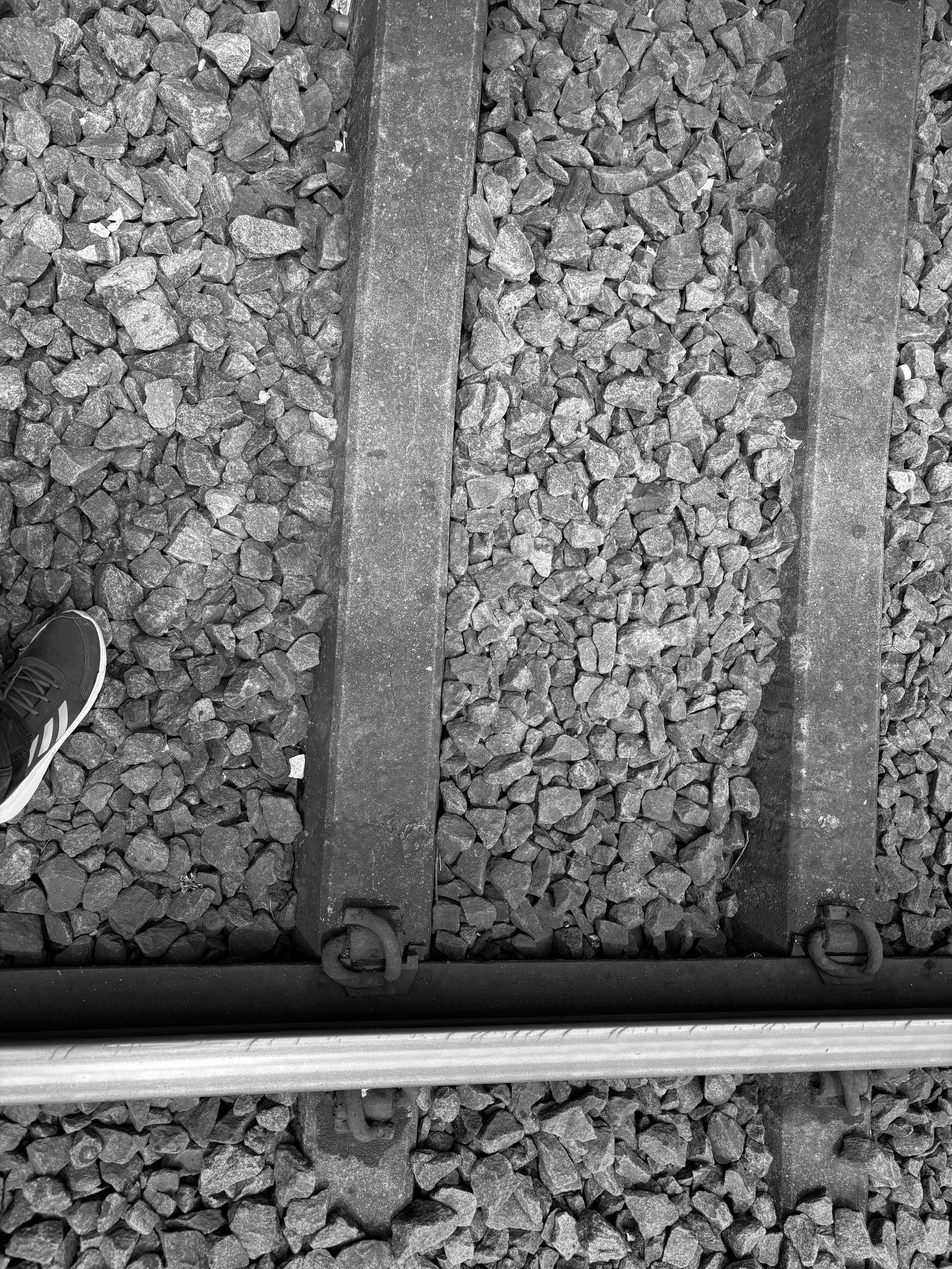cracks in midportion: (379, 626, 403, 732)
